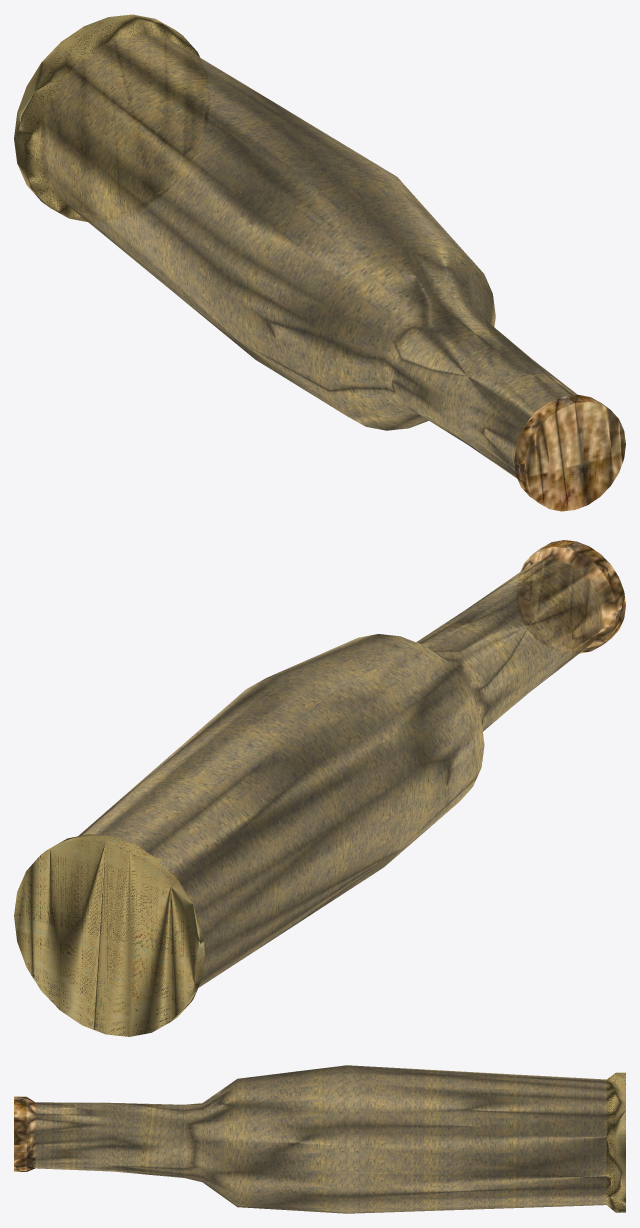
The model's file is model_align.obj.
The picture shows the model from 3 angles, top to bottom: view 1: azimuth 30°, elevation 25°; view 2: azimuth 150°, elevation 25°; view 3: azimuth 270°, elevation 25°; orthographic projection. The views are drawn at different scales.
Size of the model in its own units: 0.0372 by 0.0372 by 0.1527.
